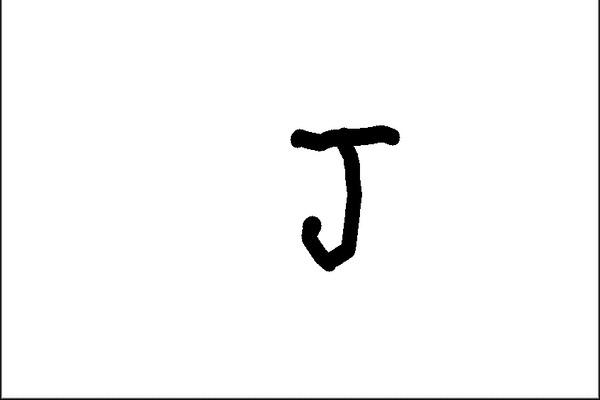J: (284, 115, 404, 275)
